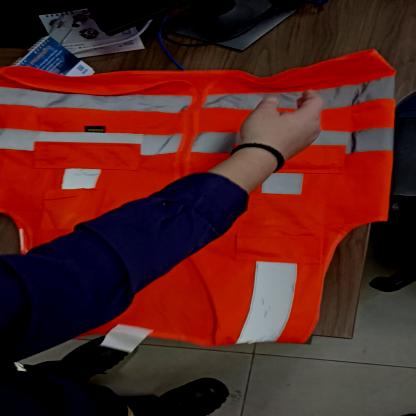colete: (1, 59, 401, 350)
